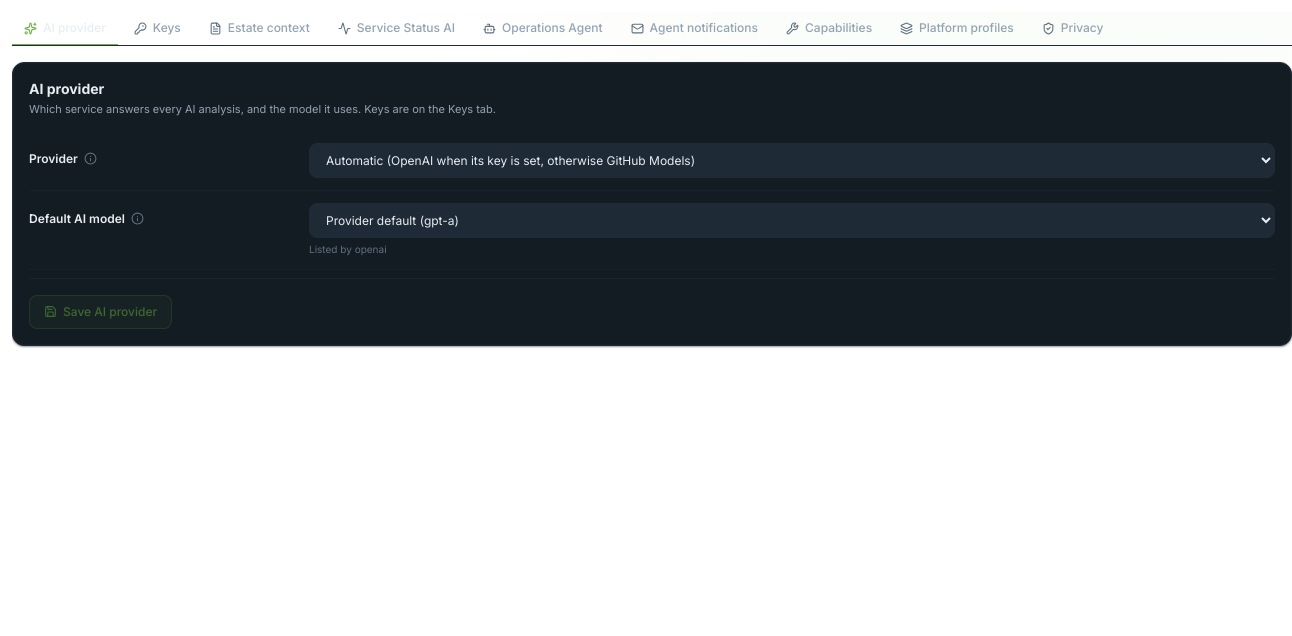
Test: IntelligenceSettingsPage › a tab click puts the tab in ?tab=
Click the tab "Estate context" at (259, 29), box [197,12,322,46]
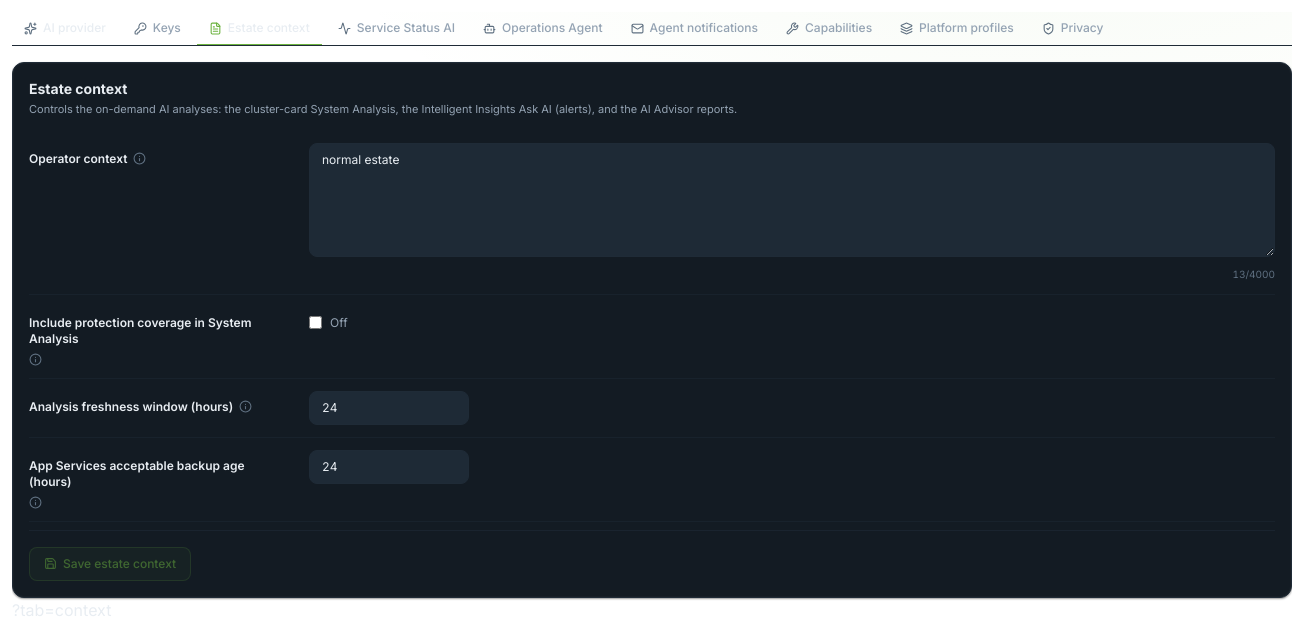
Now the text with test id "search" reads "?tab=context", box [12,600,111,620]
Now the text box showing "normal estate" is shown, box [309,143,1275,257]
